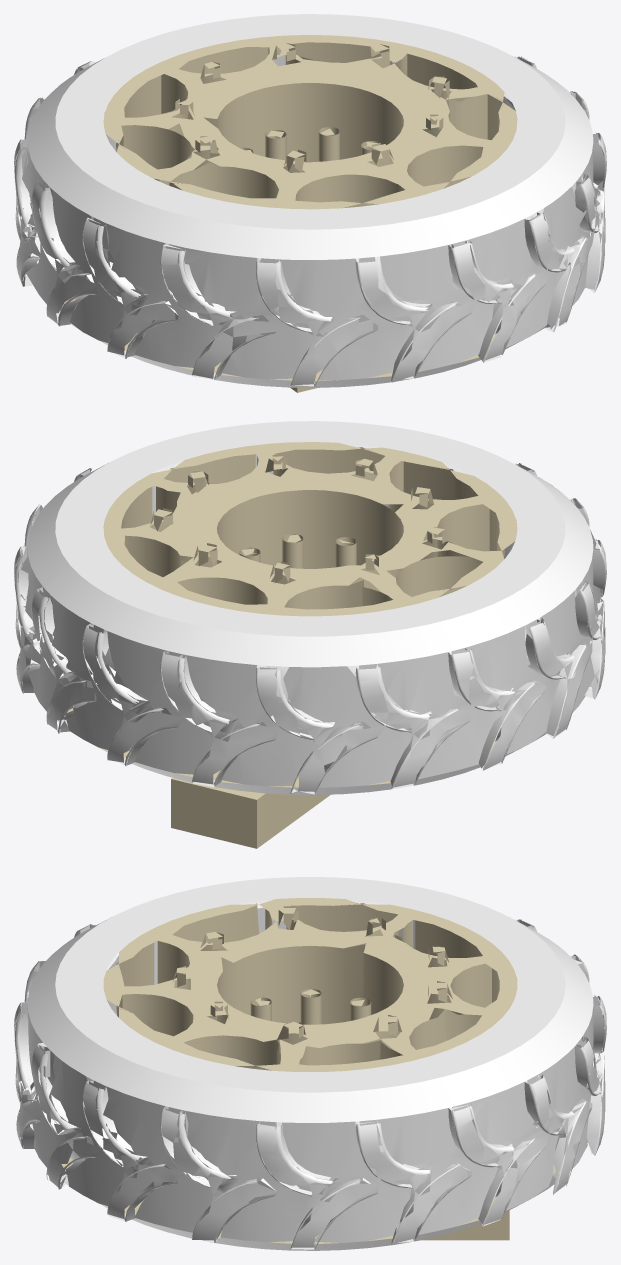
Rendered from rear_left_wheel_visual.obj.
The picture shows the model from 3 angles, top to bottom: view 1: azimuth 30°, elevation 25°; view 2: azimuth 150°, elevation 25°; view 3: azimuth 270°, elevation 25°; orthographic projection.
Visible parts, largest first — view 1: rear_left_wheel_visual; view 2: rear_left_wheel_visual; view 3: rear_left_wheel_visual.
Part boxes in pixels (x1,y1,x2,y2): rear_left_wheel_visual: [14, 14, 606, 392]; rear_left_wheel_visual: [14, 421, 606, 848]; rear_left_wheel_visual: [14, 877, 606, 1250].
Size of the model in its own units: 0.3424 by 0.162 by 0.3425.
